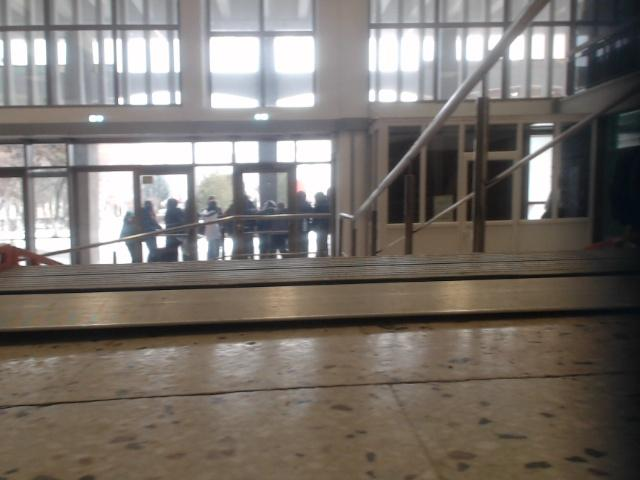rampDown: (0, 244, 639, 331)
ramps-railing: (2, 0, 549, 265), (385, 98, 614, 254)
